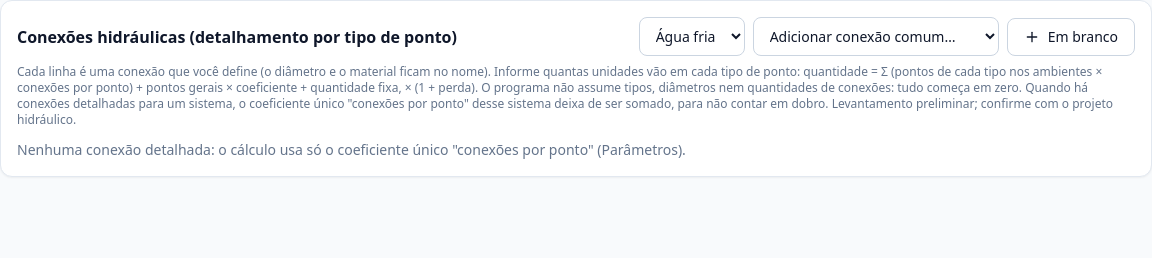
Test: detalhamento de conexões hidráulicas na tela › adiciona conexão comum (sem diâmetro, tudo zerado) para água e para esgoto
Select "Joelho 90°" in the dropdown named "Adicionar conexão comum" at (876, 36), box [753,17,999,56]
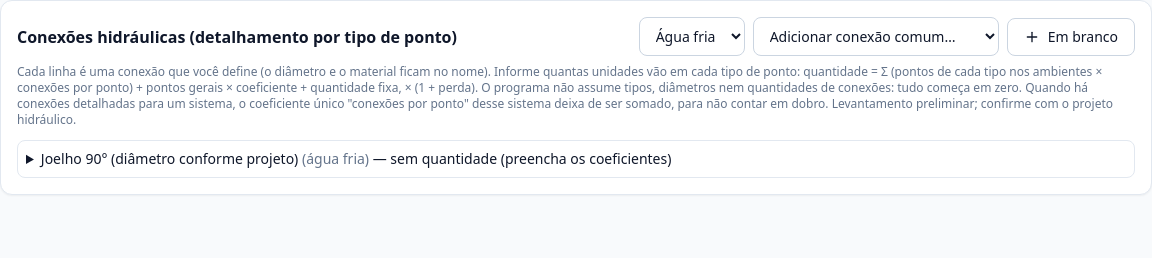
Select "Esgoto" in the dropdown named "Sistema da nova conexão" at (692, 36), box [639,17,745,56]
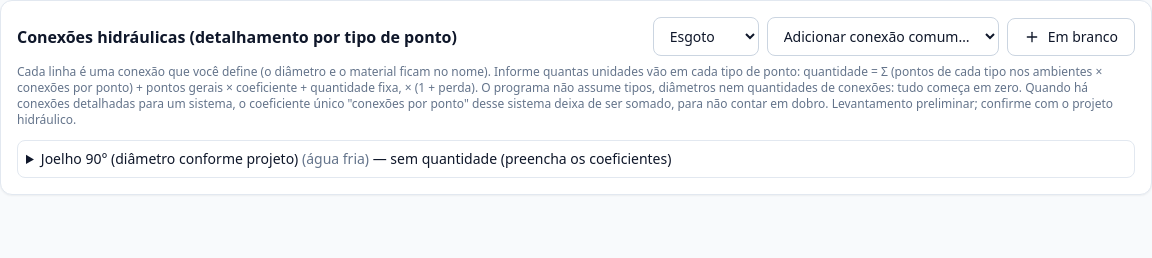
Select "Junção 45°" in the dropdown named "Adicionar conexão comum" at (883, 36), box [767,17,999,56]
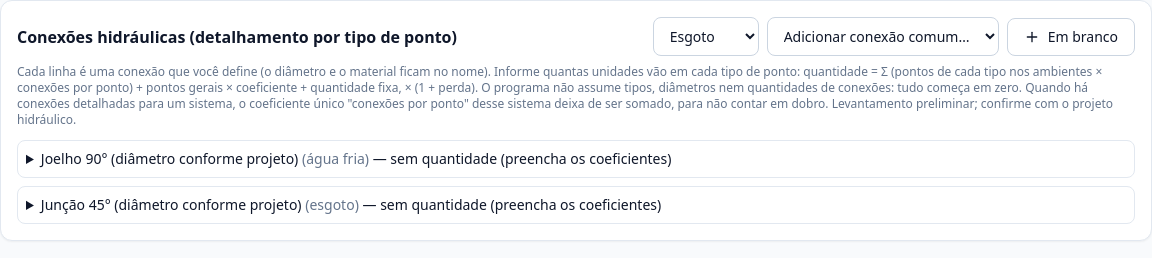
Expected: the number of headings "sem quantidade (preencha os coeficientes)" is 2, [41,149,671,168]; [41,195,661,214]
